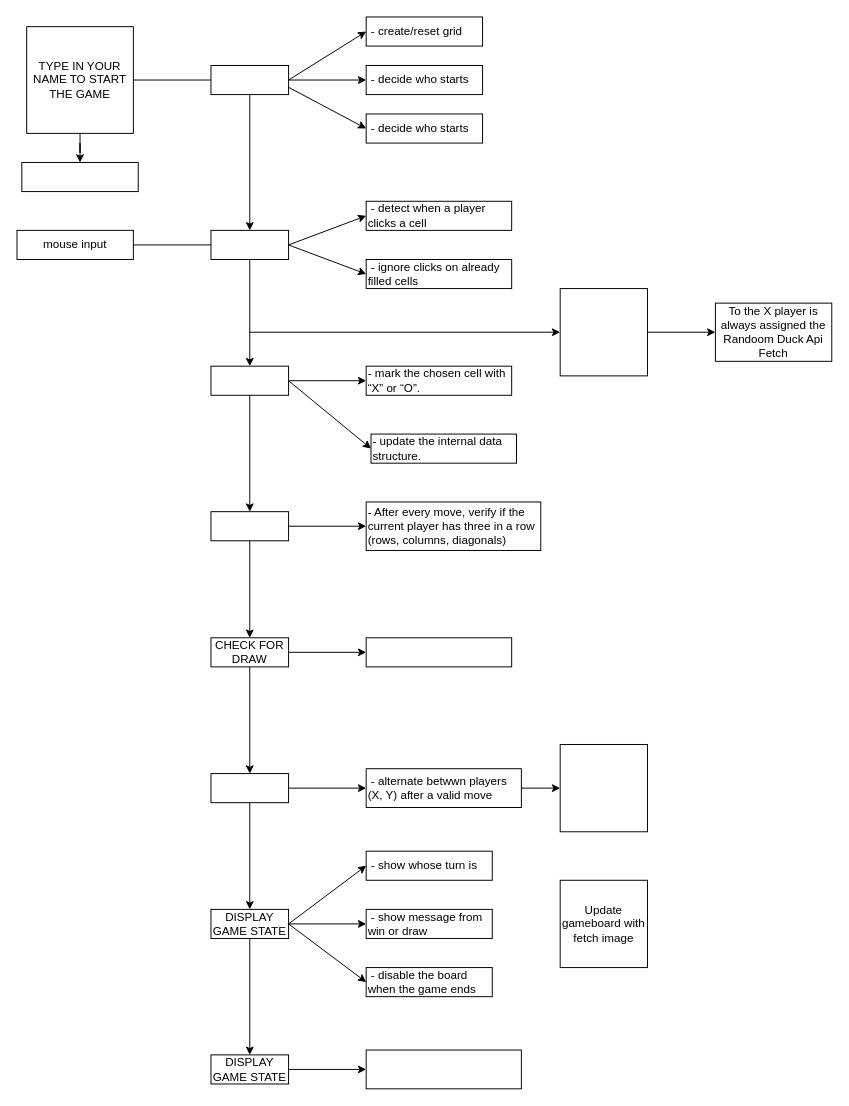
This 849x1106 diagram has some shape labels left out. Each missing label, with the centre of its shape:
- clear the board and start a new match: the point at 443,1069
- if all cells are filled and there's no winner: the point at 438,652
CHECK FOR WIN: the point at 249,526
keyboard input: the point at 79,177
PLAYER INPUT: the point at 249,244
START: the point at 249,80
Switch API: the point at 603,788
SWITCH PLAYERS: the point at 249,788
UPDATE THE BOARD: the point at 249,380
X is always the first player.: the point at 603,332
